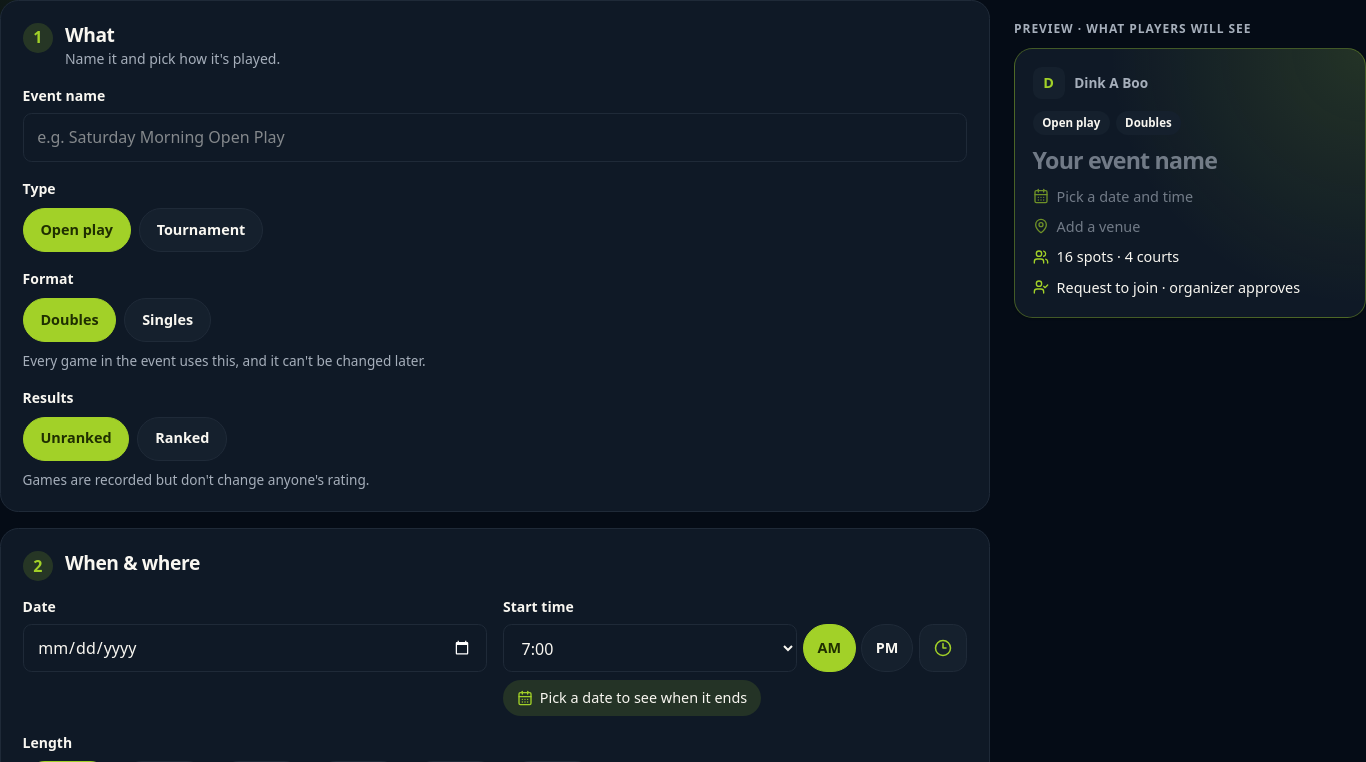
Test: create event form › lets organizers type an exact start time like 6:15 AM
The width and height of the screenshot is (1366, 762).
Type "2030-11-09" into the date field labelled "Date" at [255, 648], box [23,624,487,672]
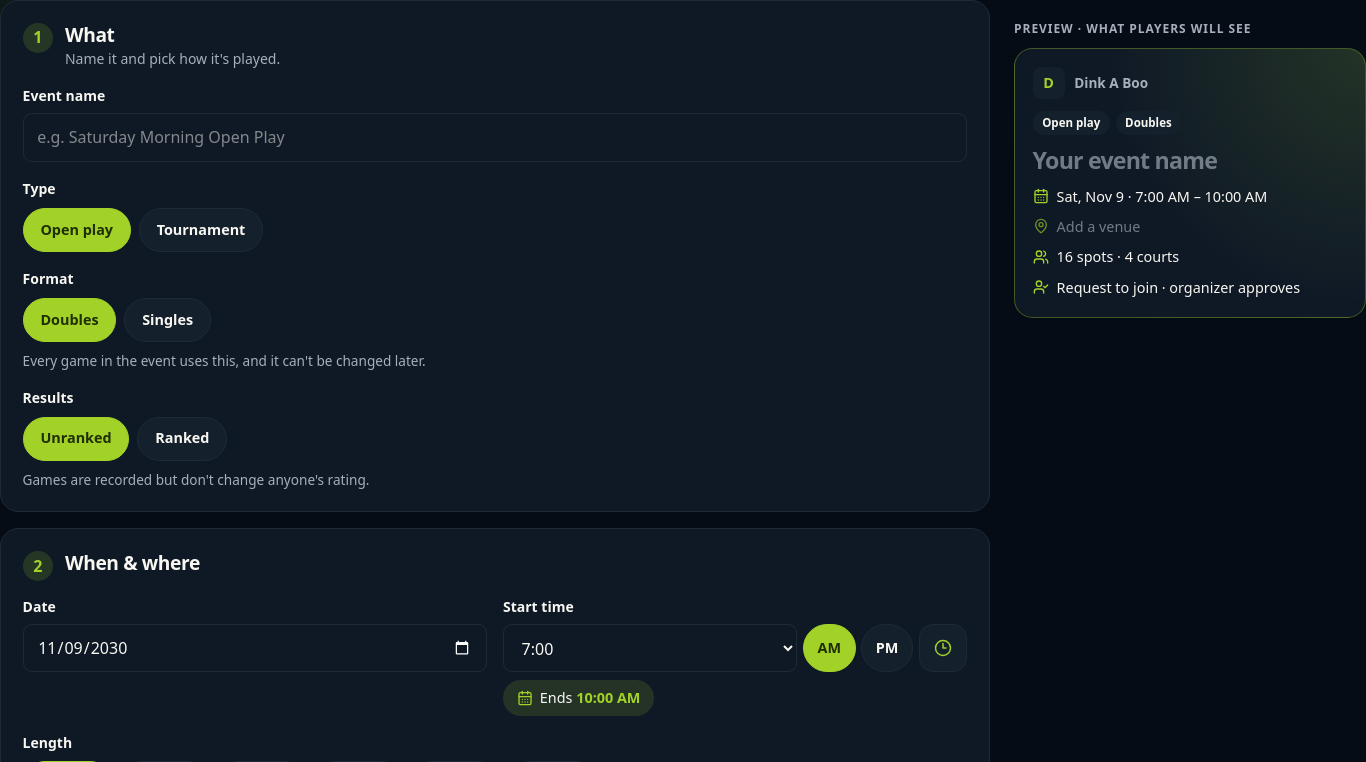
Click the button named "Type an exact time" at [943, 648], box [919,624,967,672]
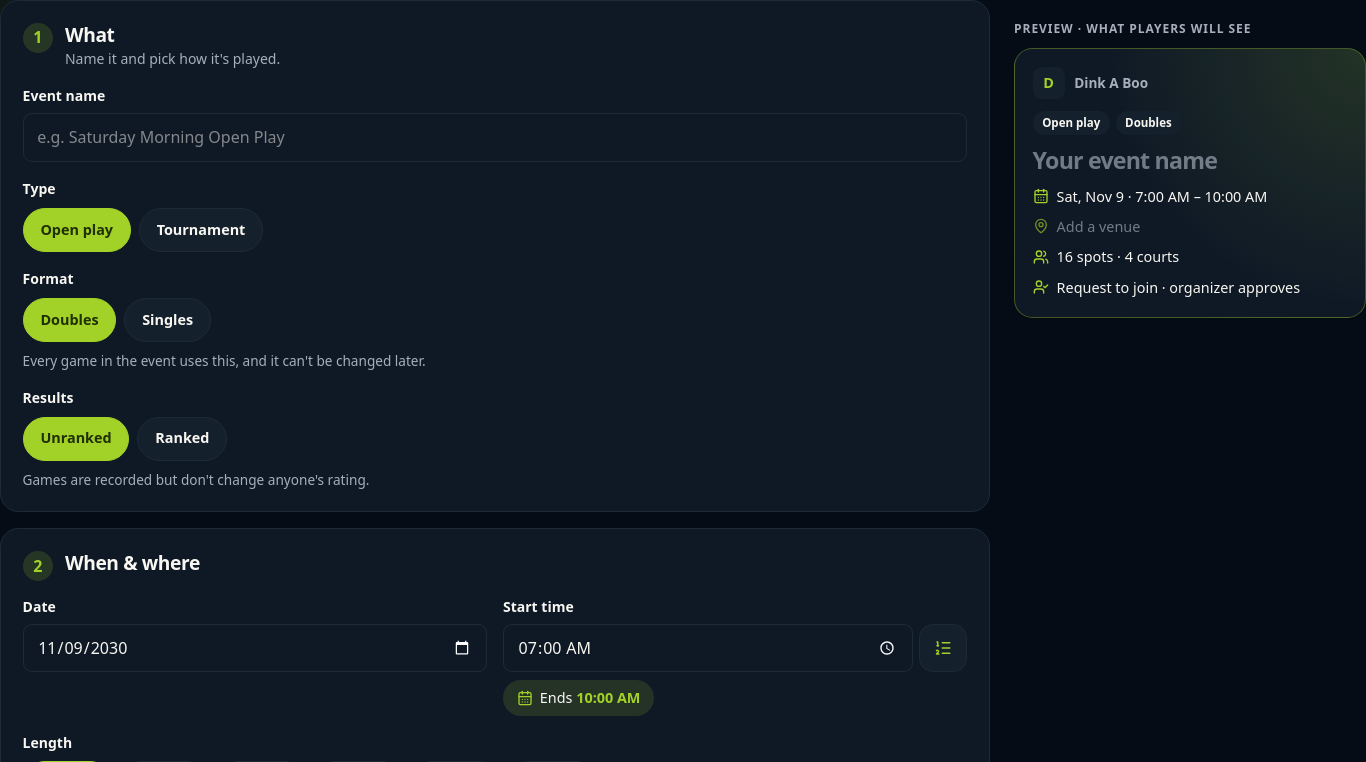
Expected: the time field labelled "Start time" holds "07:00"
Replace the text in the time field labelled "Start time" with "06:15" at [708, 648], box [503,624,913,672]
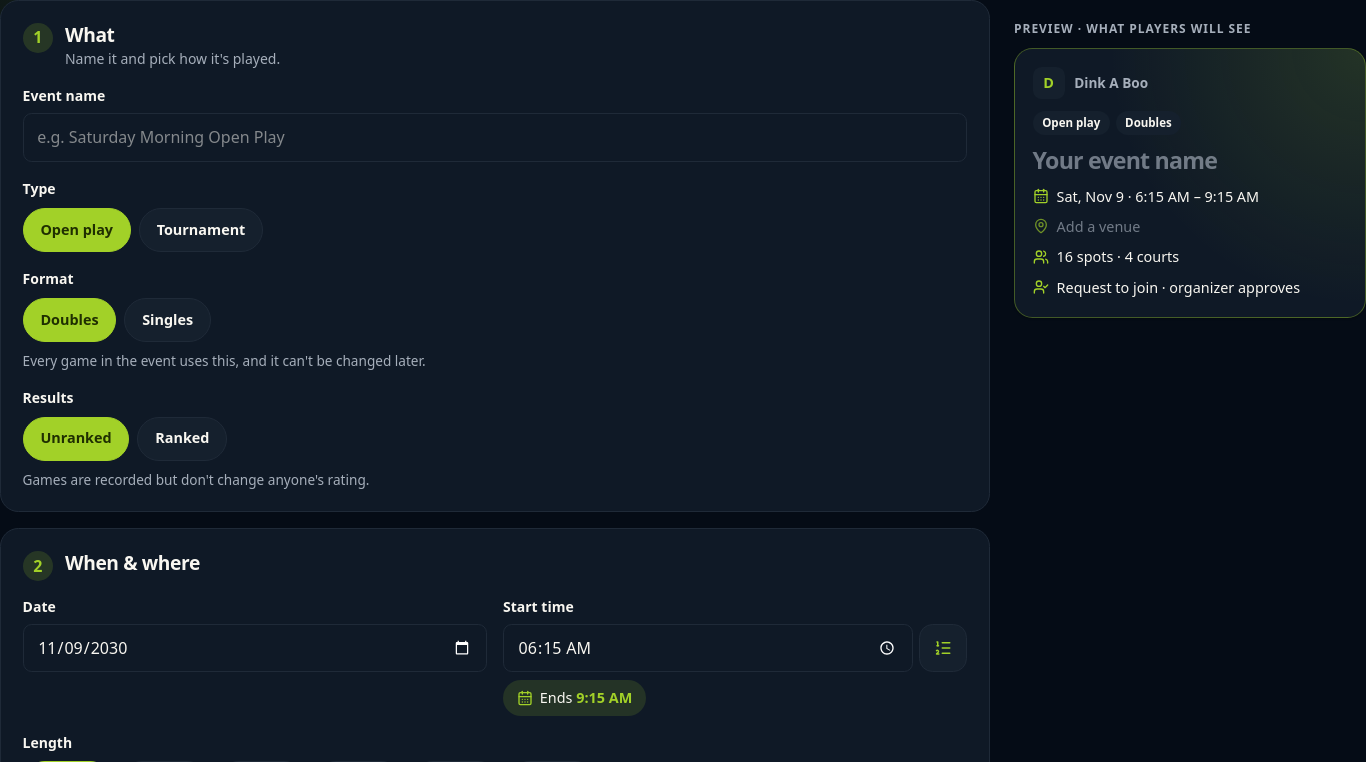
Expected: the element showing "Ends 9:15 AM" is shown, [540,687,632,709]
Click the button named "Pick an hour instead" at [943, 648], box [919,624,967,672]
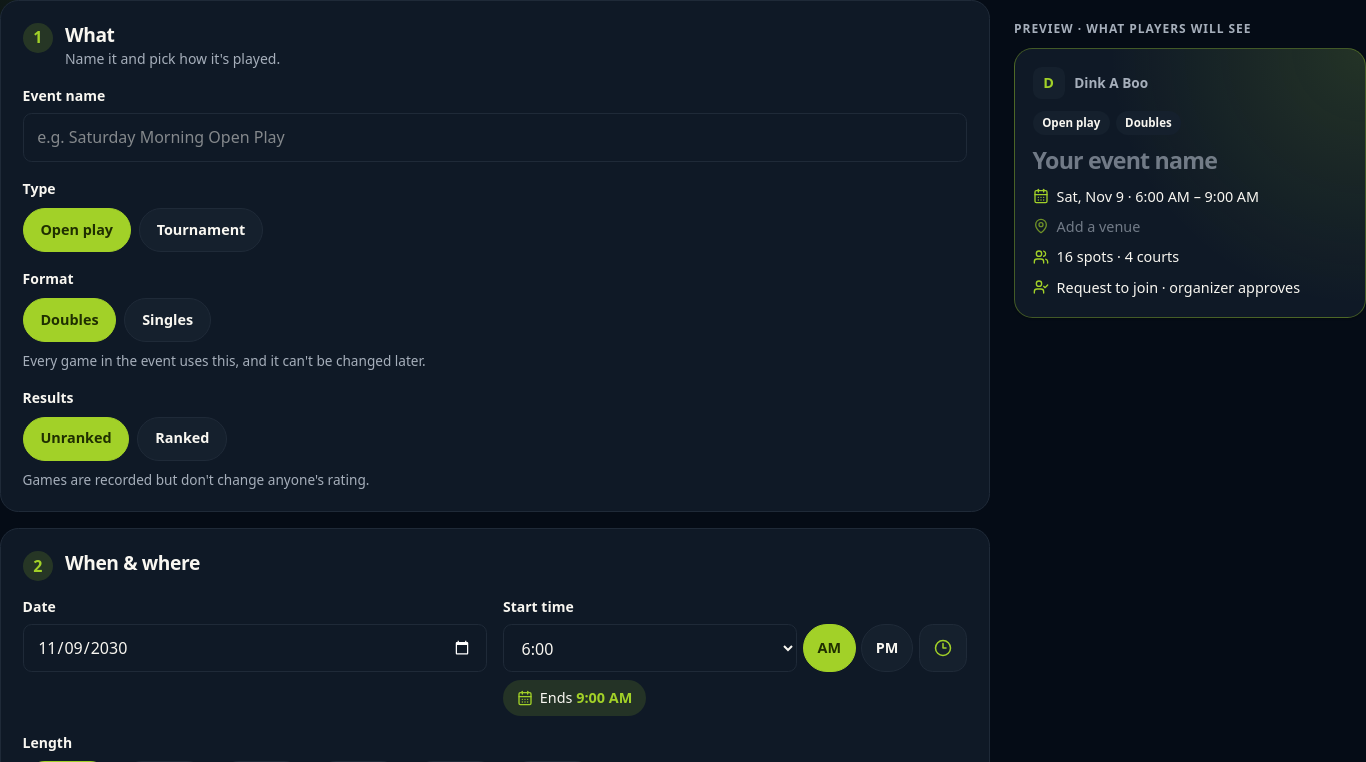
Expected: the dropdown named "Start hour" shows "6:00", [503,624,796,672]
